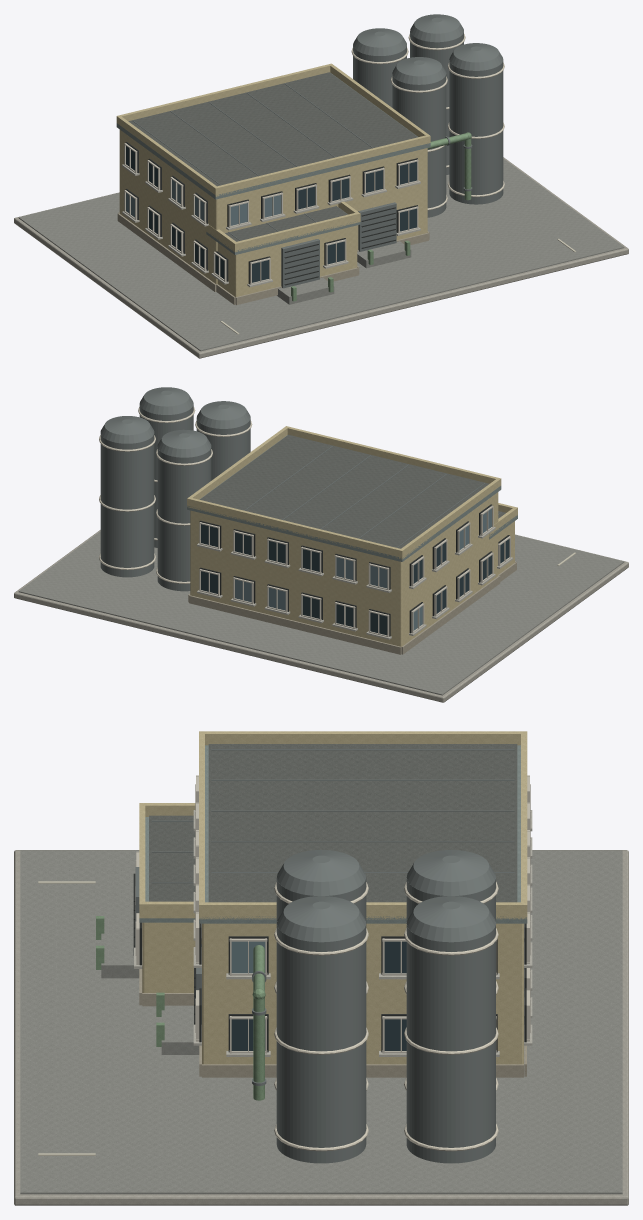
File: EXP_FACTORY_FOOD.glb
3 views of the same model, one above another, from view 1: azimuth 30°, elevation 25°; view 2: azimuth 150°, elevation 25°; view 3: azimuth 270°, elevation 25° (orthographic). The views are drawn at different scales.
Visible parts, largest first — view 1: EXP_FACTORY_FOOD_Visual; view 2: EXP_FACTORY_FOOD_Visual; view 3: EXP_FACTORY_FOOD_Visual.
Boxes of the visible parts, x1=… form: EXP_FACTORY_FOOD_Visual: x1=14, y1=14, x2=628, y2=358; EXP_FACTORY_FOOD_Visual: x1=14, y1=387, x2=628, y2=702; EXP_FACTORY_FOOD_Visual: x1=14, y1=731, x2=628, y2=1205.
Size of what is drawn, in the model's own units: 7.92 by 2.68 by 5.92.
Materials: 15 (9 with a texture image).
